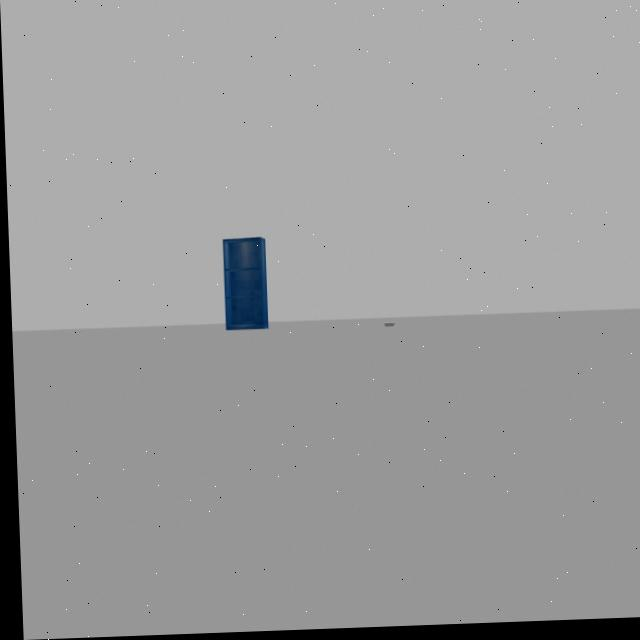bowl: (380, 317, 394, 336)
shelf: (214, 225, 272, 348)
